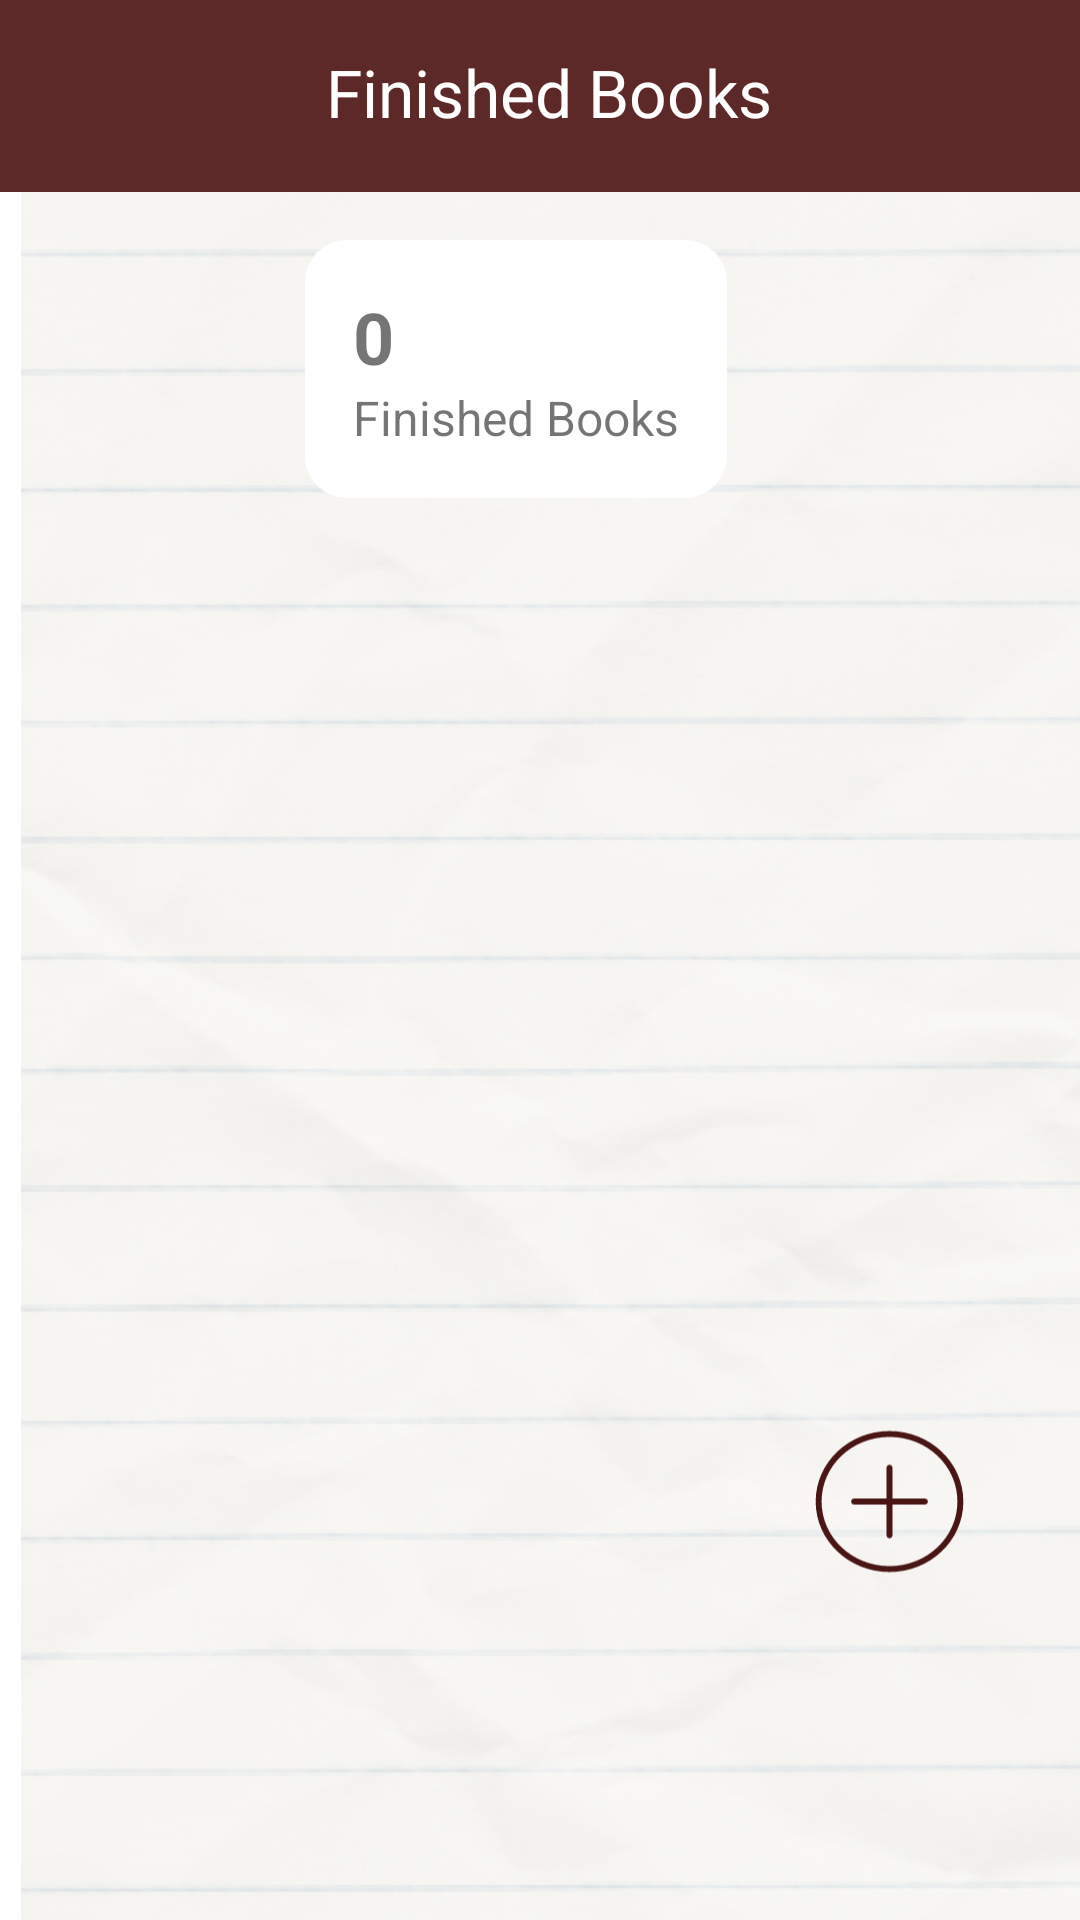

Icons on this 1080*1920 Android screen, each with its box as detection(x1, y1, x2, y2):
Add to wishlist: detection(815, 1430, 964, 1573)
